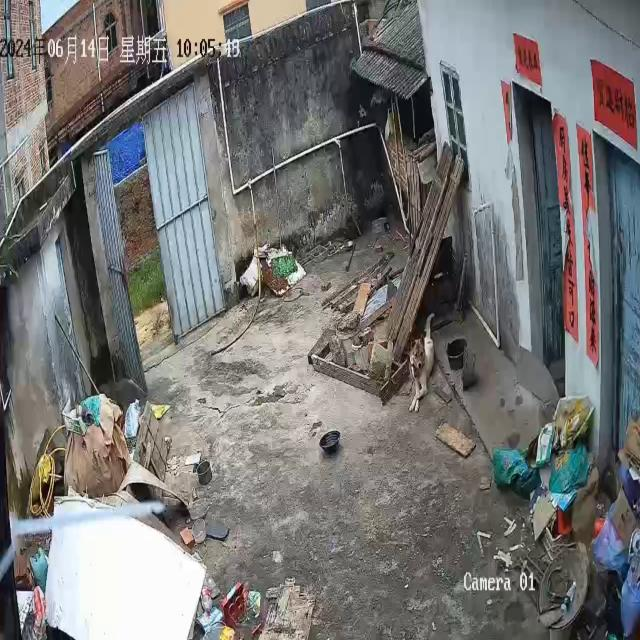dog: (404, 313, 436, 414)
